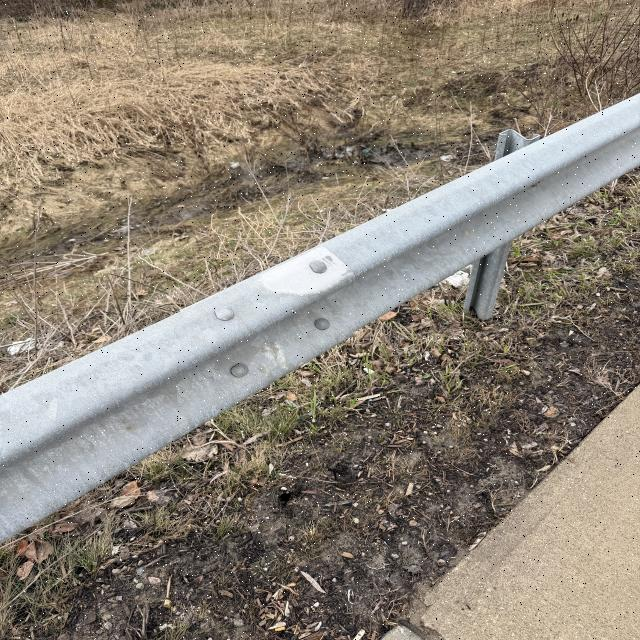Guard rail: (23, 128, 635, 494)
